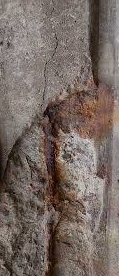Corrosion: (47, 80, 119, 140)
Crack: (42, 7, 59, 101)
Exposed reinforcement: (42, 123, 59, 276)
Spalling: (1, 89, 105, 276)
